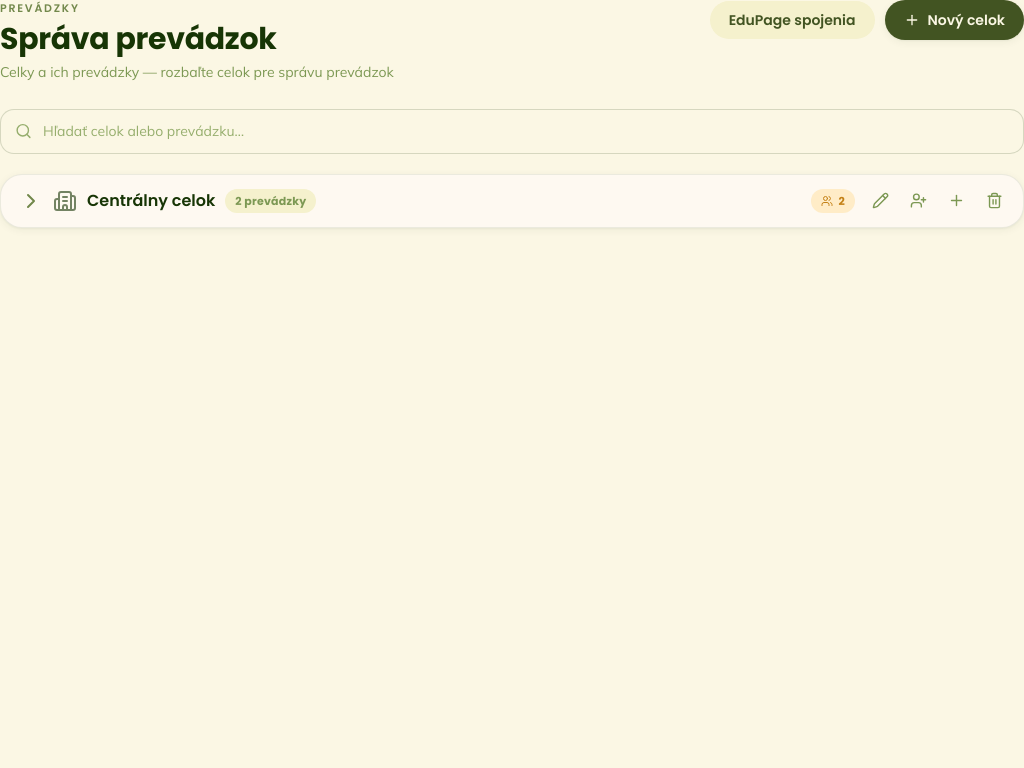
FacilityManager login management › opens the complete login list from the celok badge
Click the button named "Zobraziť loginy celku Centrálny celok": x=833, y=201 812,188 -> 855,213
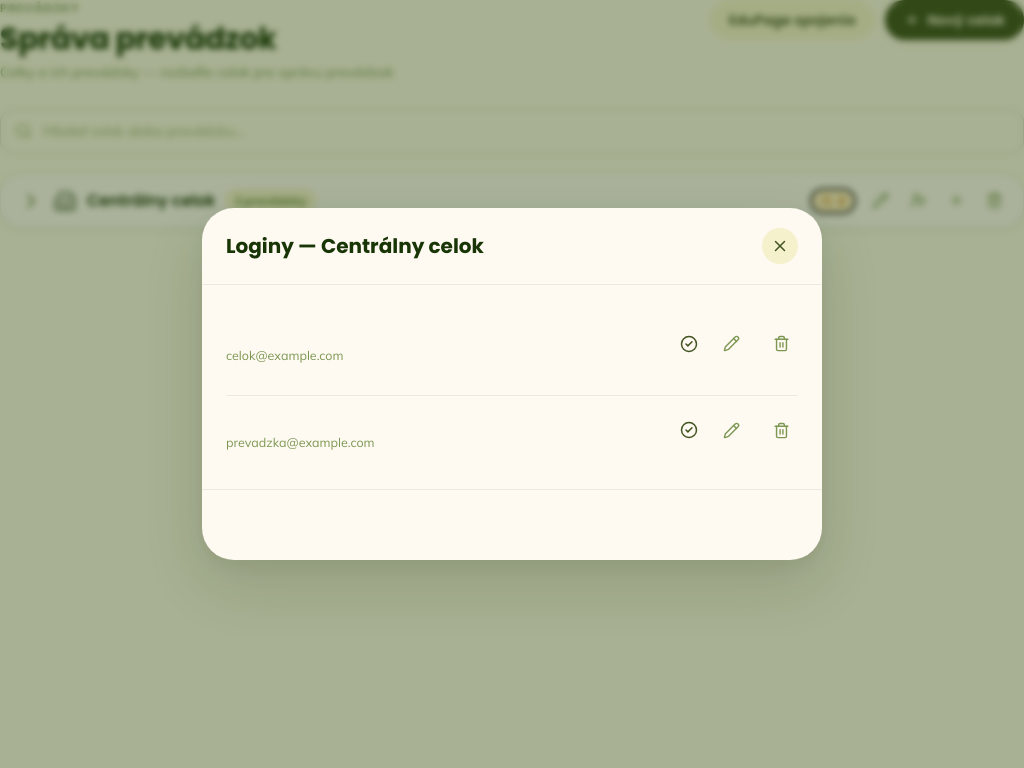
Expected: the heading "Loginy — Centrálny celok" is shown, 226,231 -> 484,261
Expected: the text "celok@example.com" is shown, 226,347 -> 343,363
Expected: the text "prevadzka@example.com" is shown, 226,434 -> 375,450
